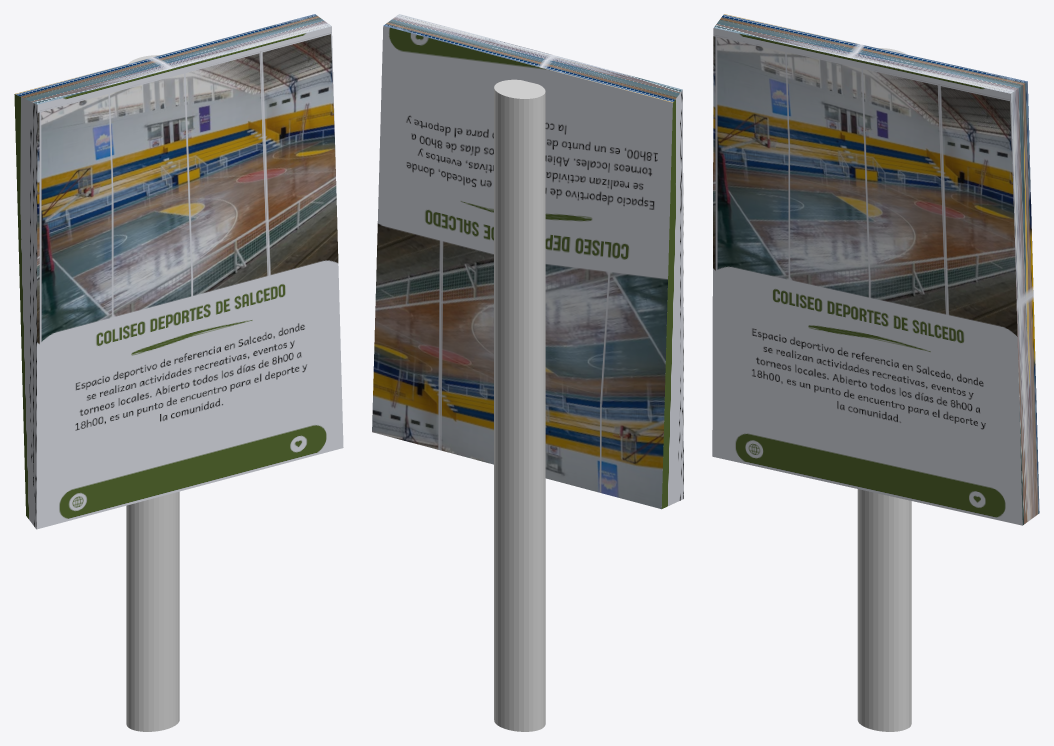
Rendered from Cartel_Coliseo.glb.
3 renders of one model, left to right at view 1: azimuth 30°, elevation 25°; view 2: azimuth 150°, elevation 25°; view 3: azimuth 330°, elevation 25°, orthographic. The views are drawn at different scales.
Visible parts, largest first — view 1: Cubo, Cilindro; view 2: Cubo, Cilindro; view 3: Cubo, Cilindro.
Boxes of the visible parts, bbox=[...] form: Cubo: bbox=[14, 14, 343, 529]; Cilindro: bbox=[126, 55, 179, 731]; Cubo: bbox=[372, 14, 683, 509]; Cilindro: bbox=[494, 79, 545, 731]; Cubo: bbox=[712, 14, 1039, 525]; Cilindro: bbox=[857, 48, 911, 731].
Bounding box in the file's own units: 0.8639 × 1.79 × 0.1819.
Materials: 1 (1 with a texture image).
